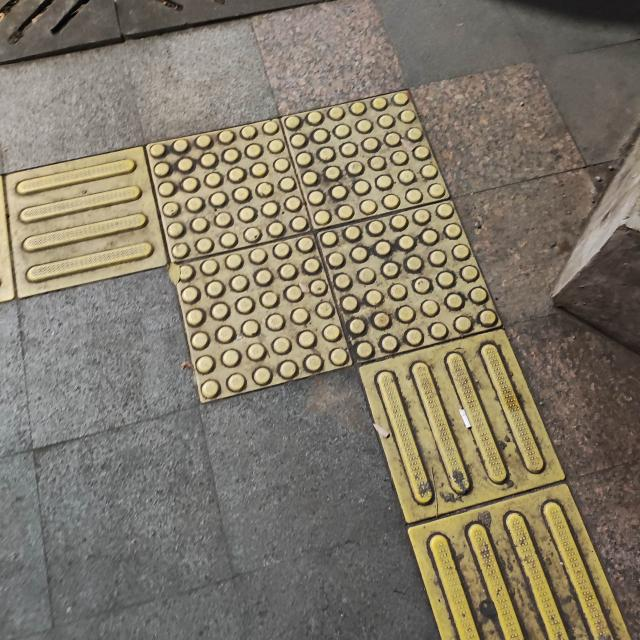kiri: (0, 104, 577, 471)
